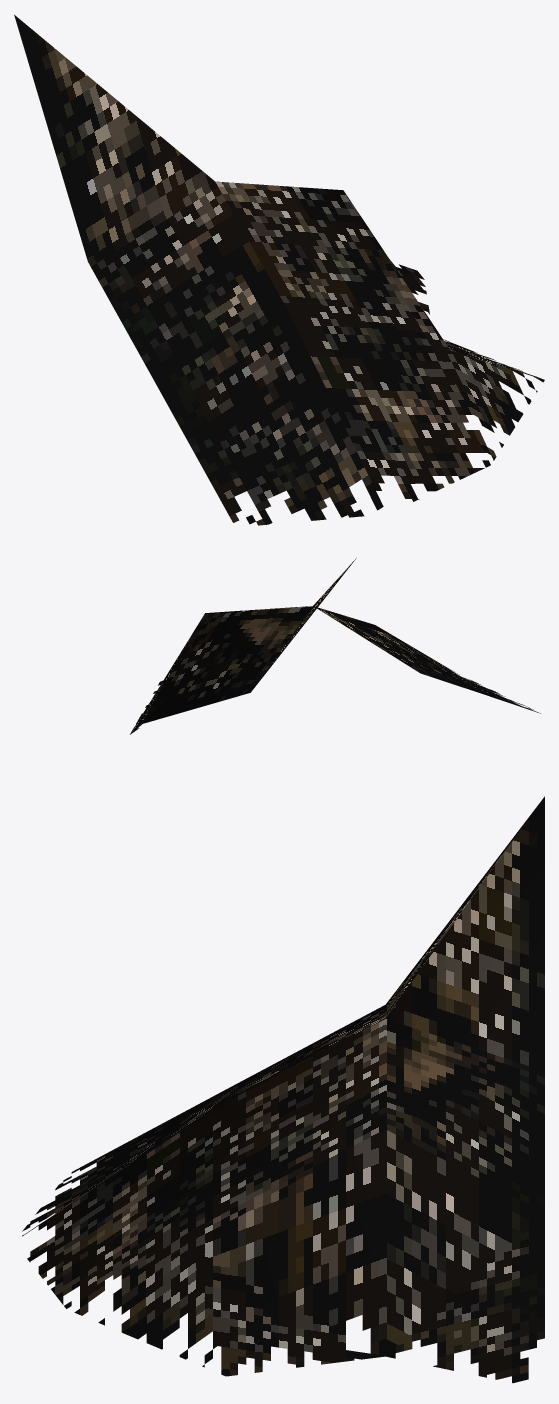
File: Rubble_IntCorner.glb
3 renders of one model, top to bottom at view 1: azimuth 30°, elevation 25°; view 2: azimuth 150°, elevation 25°; view 3: azimuth 270°, elevation 25°, orthographic. The views are drawn at different scales.
Parts seen in each view (by area): view 1: RUBBLE_INTCORNER; view 2: RUBBLE_INTCORNER; view 3: RUBBLE_INTCORNER.
Part boxes in pixels (x1,y1,x2,y2): RUBBLE_INTCORNER: (14,14,544,525); RUBBLE_INTCORNER: (130,558,540,734); RUBBLE_INTCORNER: (22,796,544,1383).
Size of the model in its own units: 1.07 by 0.875 by 1.11.
1 material, 1 textured.
